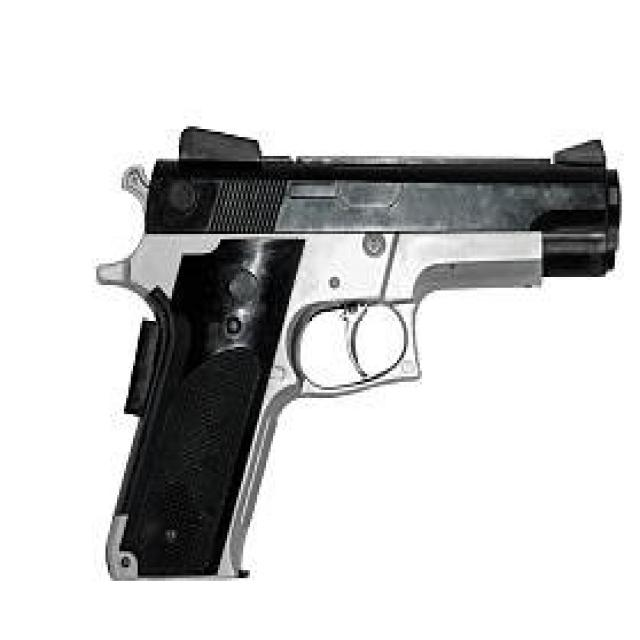pistol: (89, 111, 625, 589)
